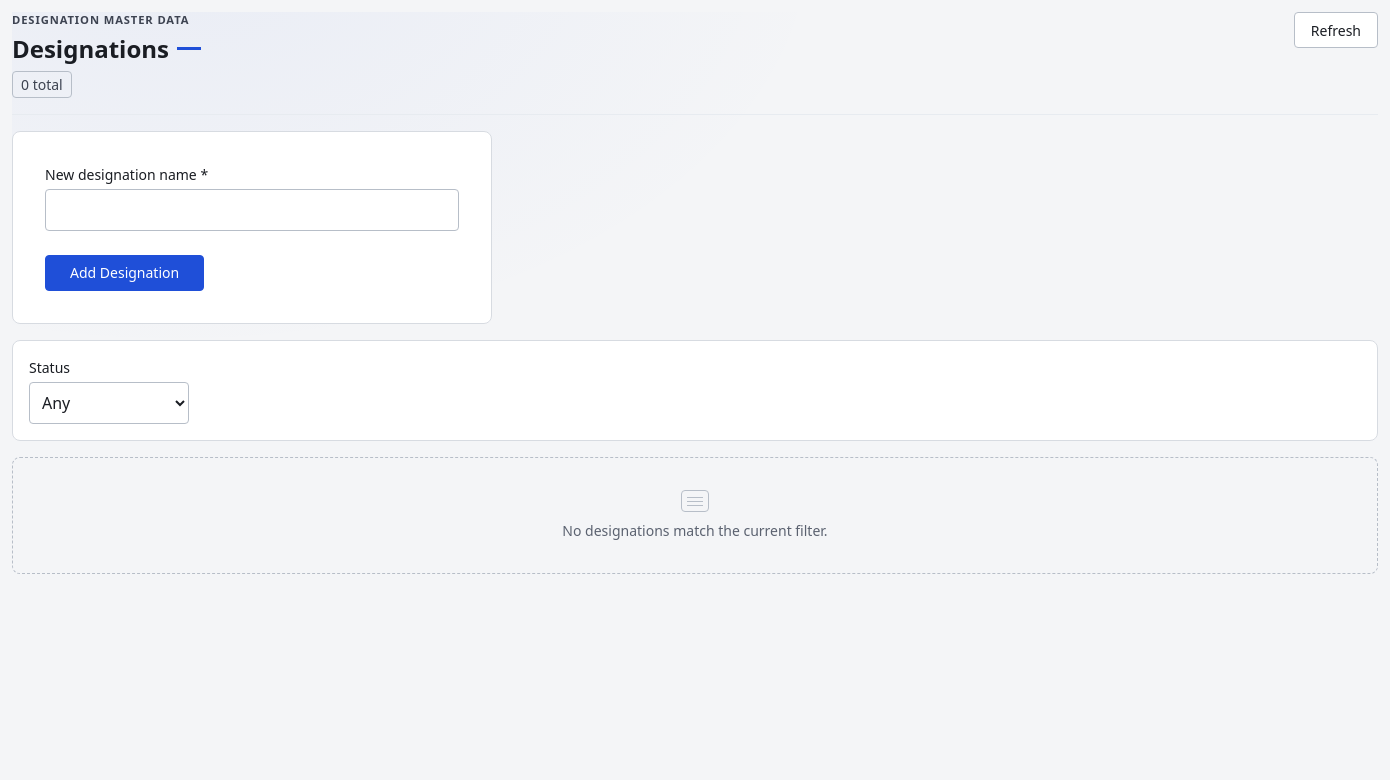
Scenario: DesignationListPage › creates a designation and refreshes the list
Expected: the text "No designations match the current filter." is shown, [562,520,828,541]
Type "Section Officer" into the field labelled "New designation name *" at point(252, 210), box [45,189,459,231]
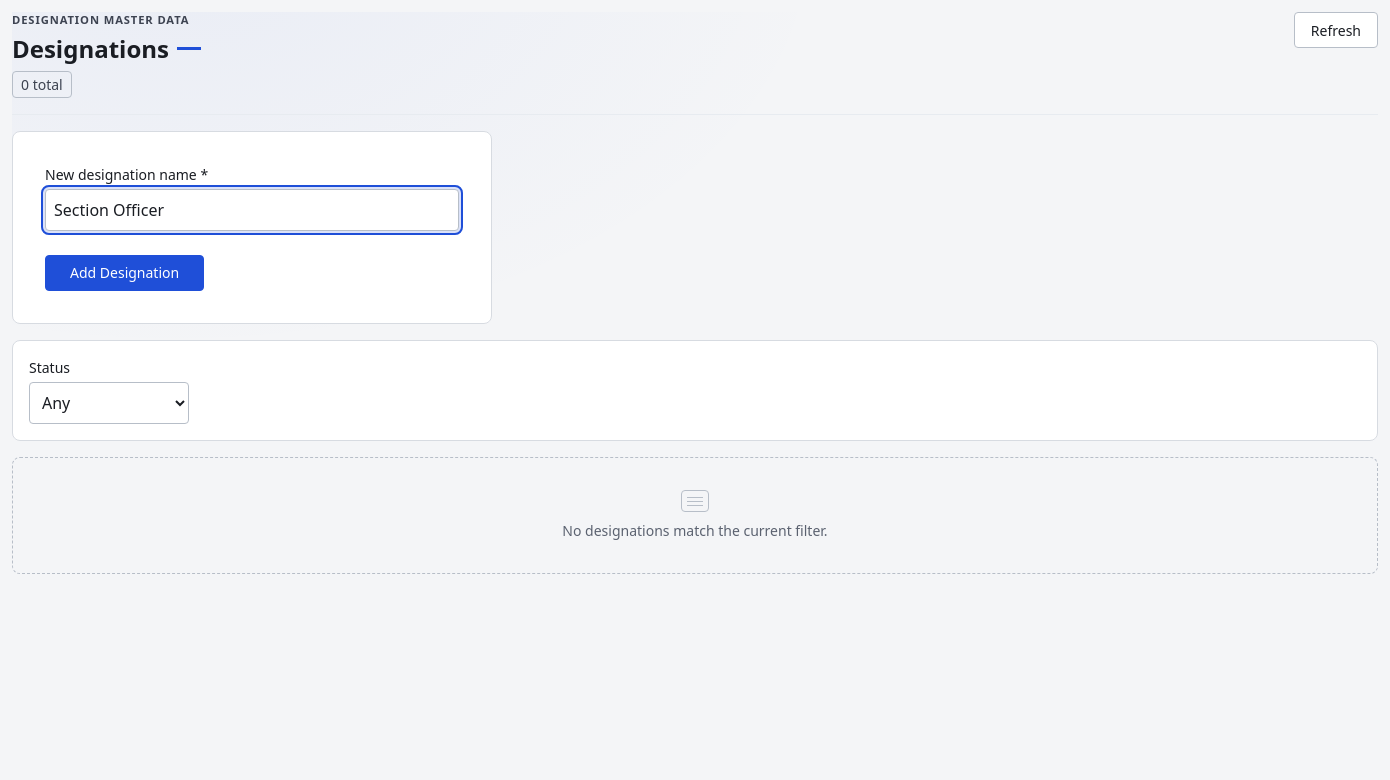
Click the button "Add Designation" at point(125, 273), box [45,255,204,291]
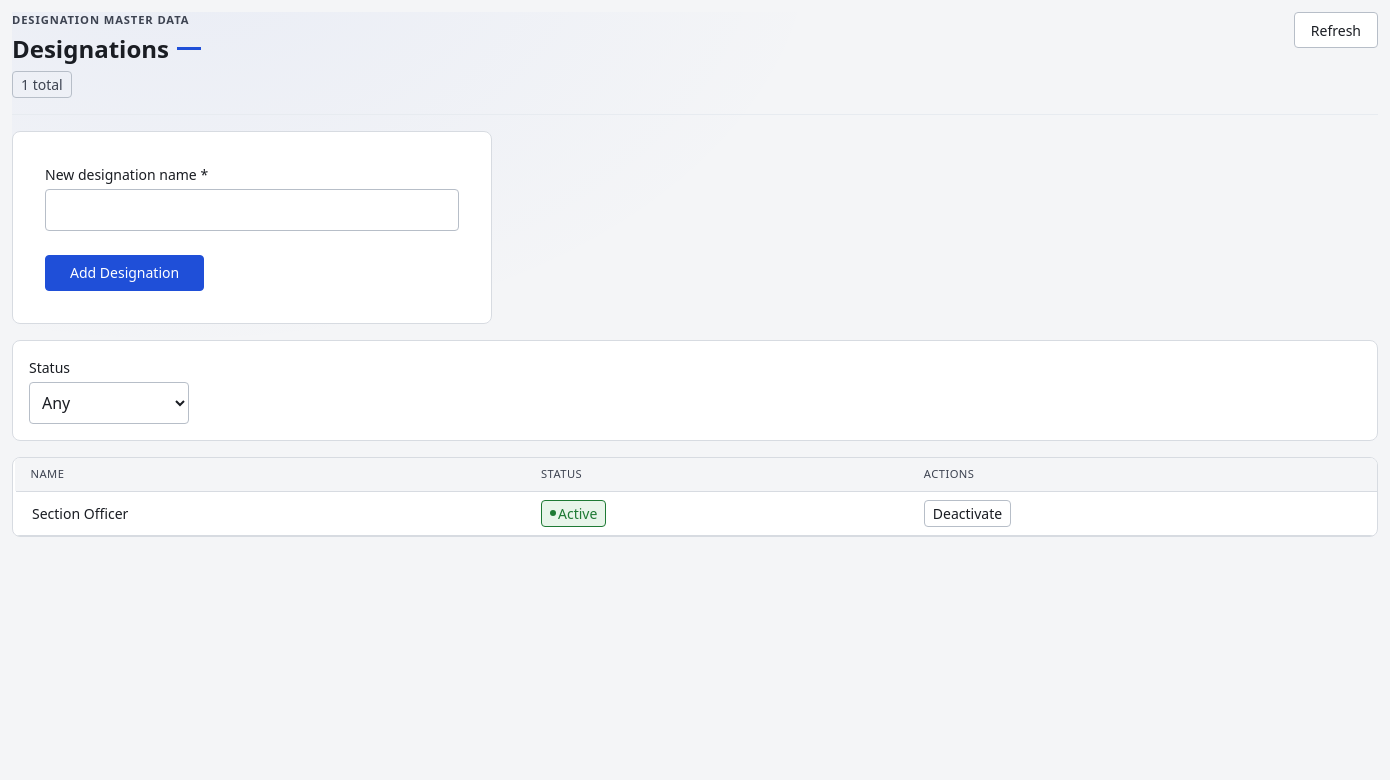
Now the column heading "Section Officer" is shown, box [14,491,525,535]
Now the field labelled "New designation name *" is empty, box [45,189,459,231]
